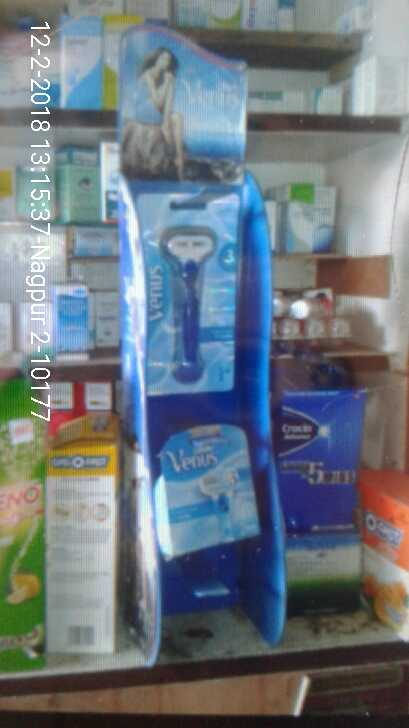venus: (134, 194, 239, 394), (158, 427, 268, 562)
